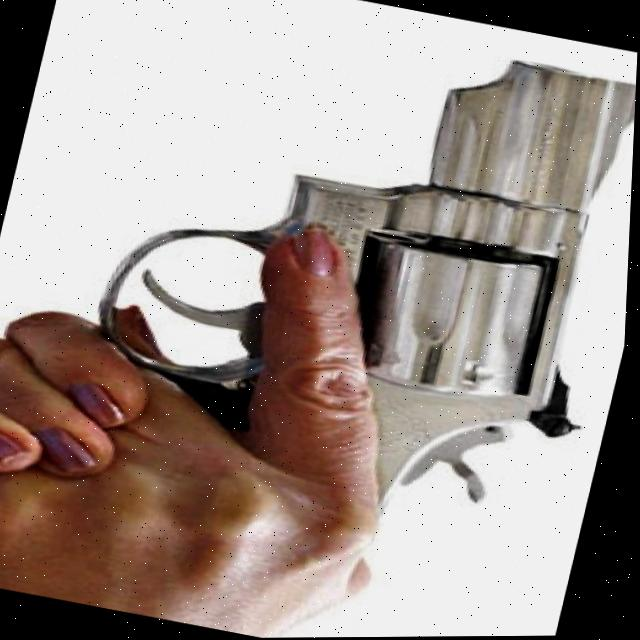pistol: (66, 0, 640, 549)
